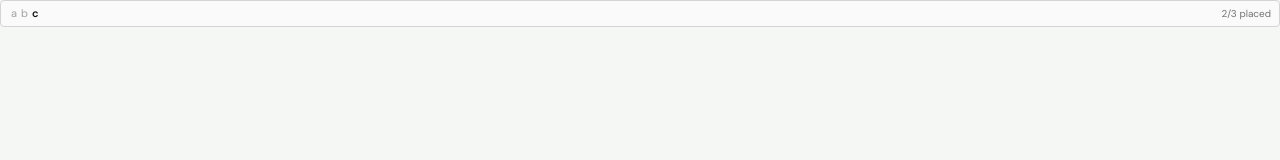
it: LyricListRow — routing is identical with or without drag › drawer (no drag) › a placed word offers a move rather than arming
Click the button "a" at (14, 13), box [9,5,19,22]
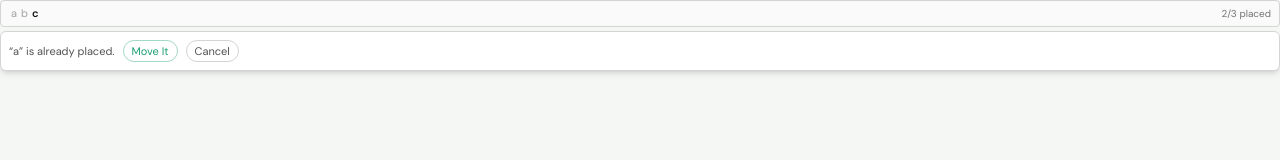
Result: the text "is already placed" is shown at [19,44,114,58]
